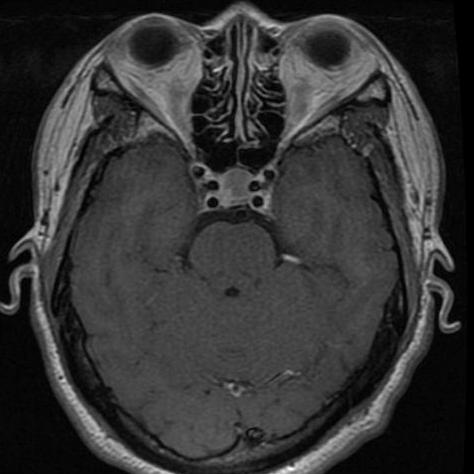Tumour-Pituitary: (189, 161, 282, 221)
